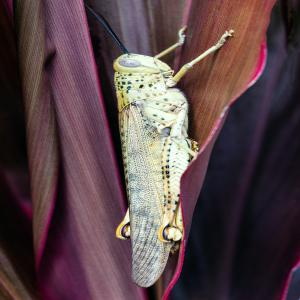locust: (101, 20, 205, 289)
